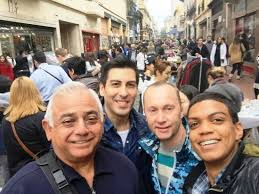no-mask: (46, 85, 110, 162), (187, 90, 246, 167), (100, 55, 140, 119), (143, 82, 185, 142), (151, 56, 174, 87)
